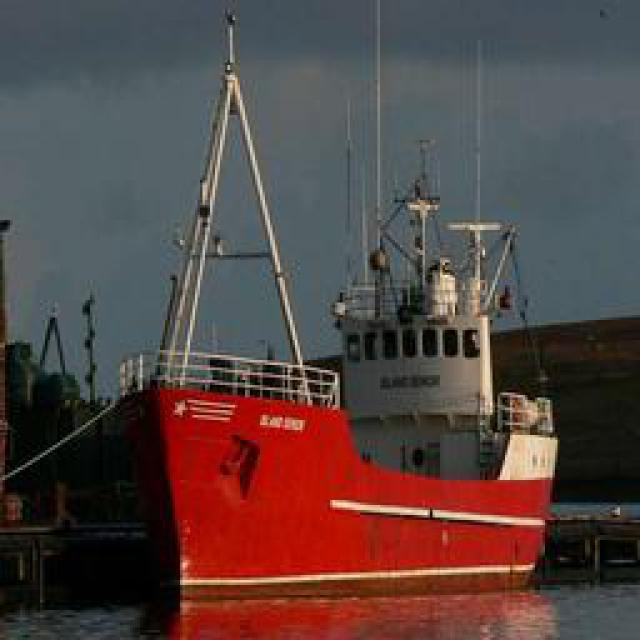Ship: (127, 10, 567, 603)
